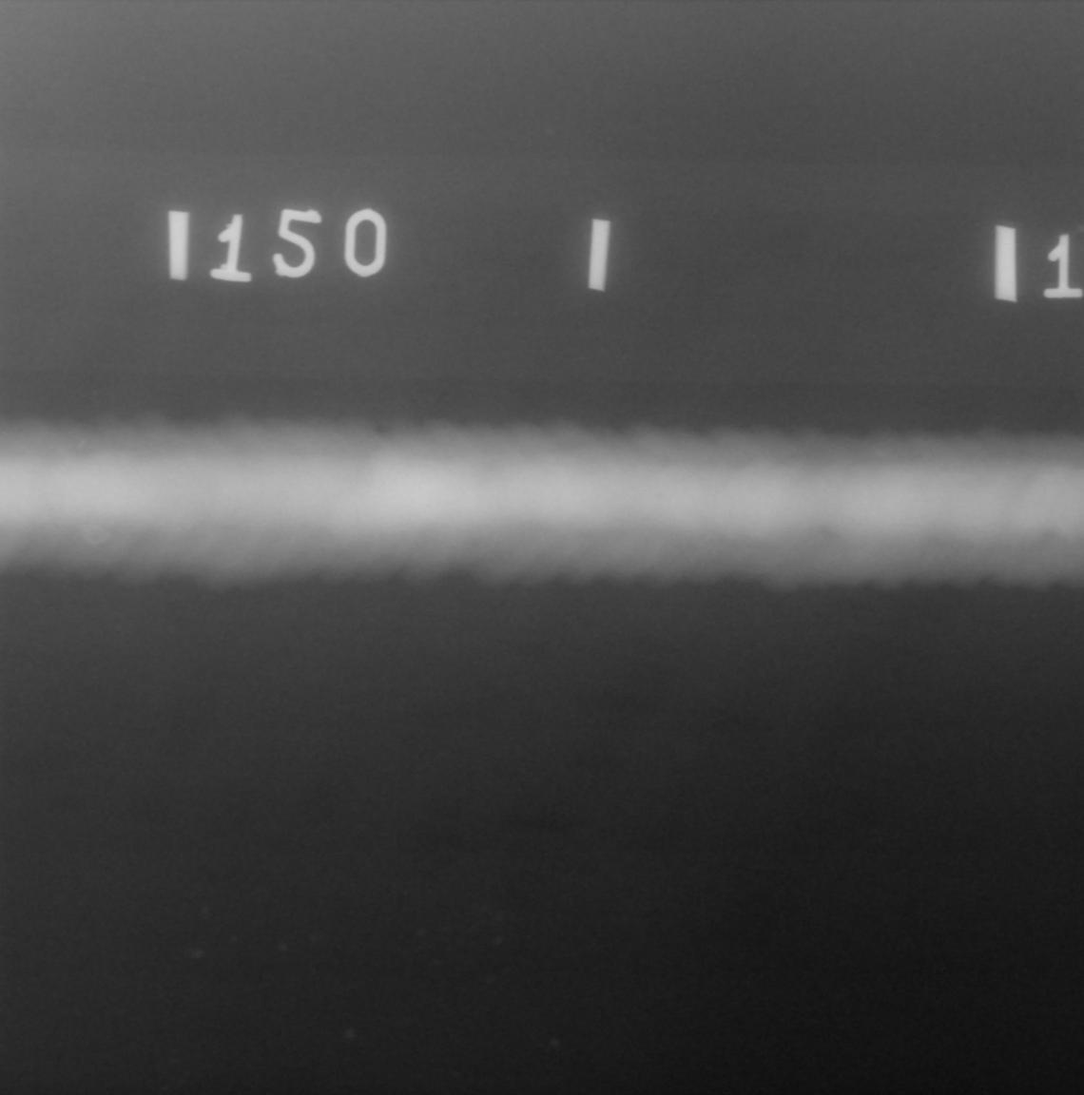Pore/Porosity: (88, 529, 101, 541)
